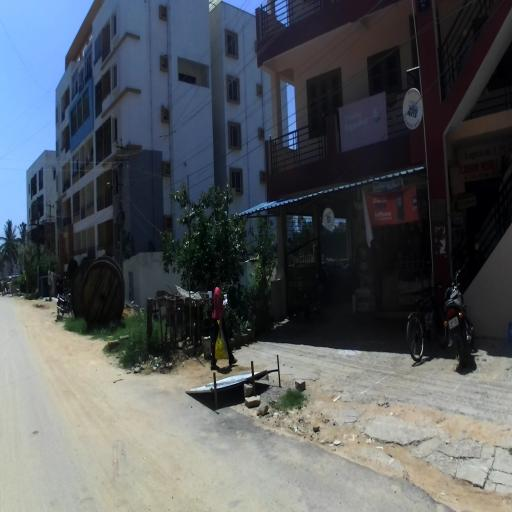street_light_0: (107, 182, 123, 211), (41, 220, 52, 236)
